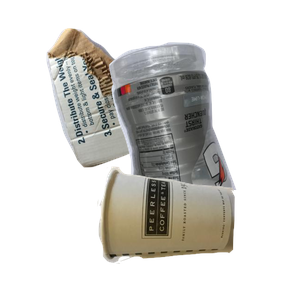cardboard: (44, 26, 209, 186)
glass: (102, 181, 246, 300)
plastic: (106, 40, 300, 220)
trash: (95, 164, 300, 300)
